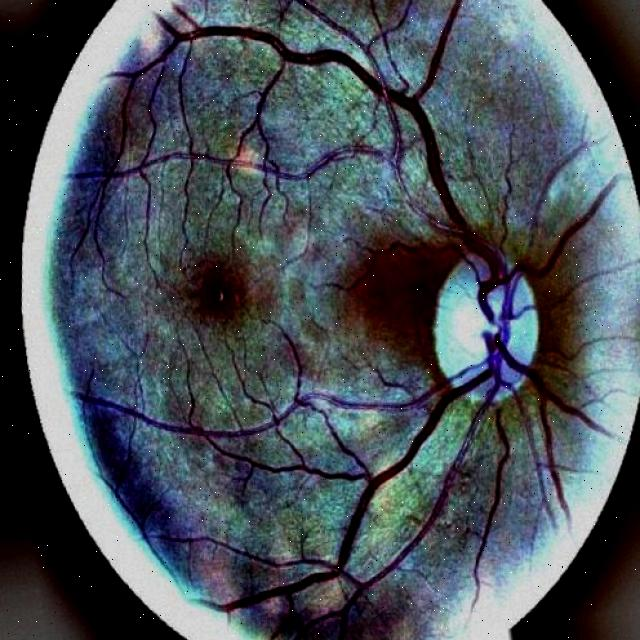Macula: (185, 261, 255, 333)
Nerves: (203, 27, 501, 347), (334, 333, 612, 560), (374, 371, 502, 583), (493, 177, 620, 299), (303, 370, 443, 420)
Optic Disk: (436, 251, 536, 406)
